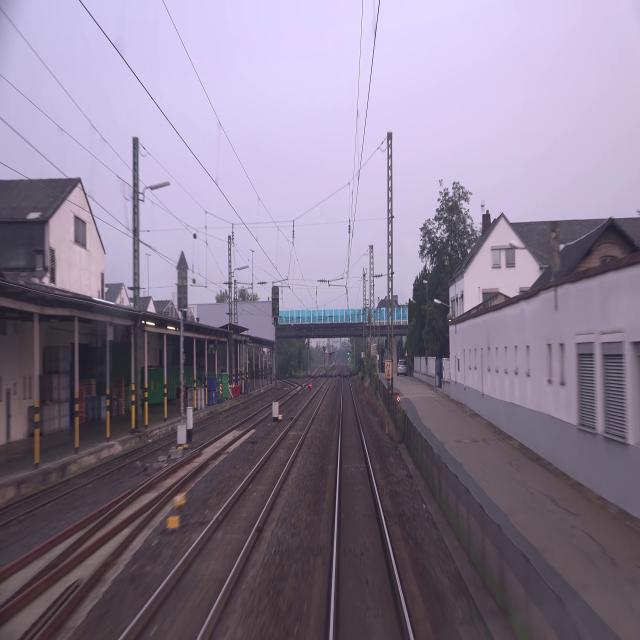rail-track: (124, 380, 329, 639), (65, 408, 269, 556), (335, 371, 409, 639), (0, 511, 144, 639), (0, 517, 94, 597)
